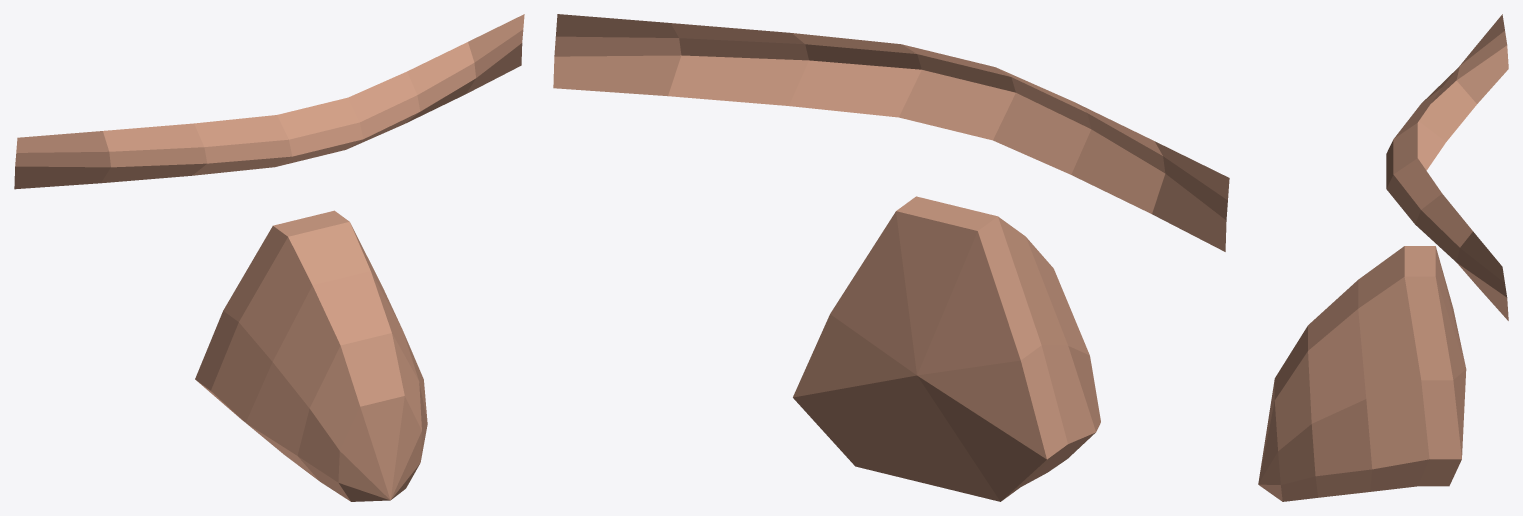
The model's file is nose_gb_hook.glb.
3 views of the same model, side by side, from view 1: azimuth 30°, elevation 25°; view 2: azimuth 150°, elevation 25°; view 3: azimuth 270°, elevation 25° (orthographic). The views are drawn at different scales.
Parts seen in each view (by area): view 1: Snout; view 2: Snout; view 3: Snout.
Boxes of the visible parts, x1,y1,x2,y2 form: Snout: (14, 14, 524, 501); Snout: (553, 14, 1229, 501); Snout: (1258, 14, 1508, 501).
Size of the model in its own units: 0.148 by 0.095 by 0.062.
Materials: 1 (1 with a texture image).
